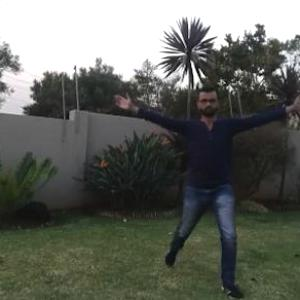takeoff: (114, 103, 294, 296)
